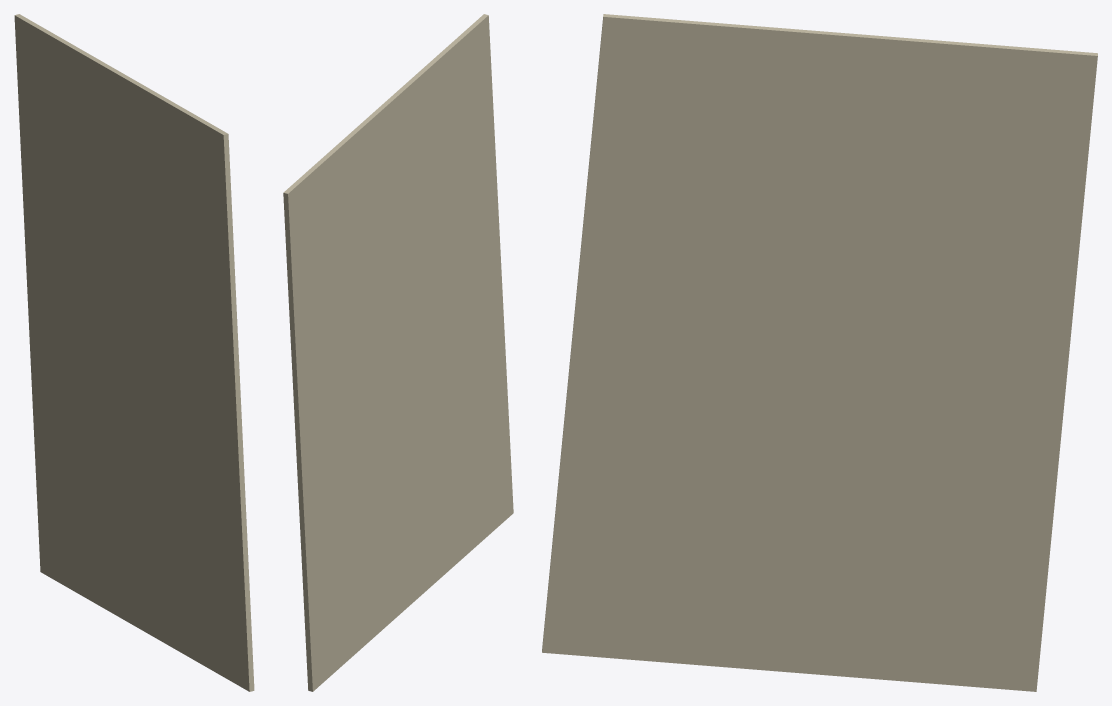
The model's file is shift_note_paper.glb.
3 views of the same model, side by side, from view 1: azimuth 30°, elevation 25°; view 2: azimuth 150°, elevation 25°; view 3: azimuth 270°, elevation 25° (orthographic). The views are drawn at different scales.
Visible parts, largest first — view 1: ShiftNotePaperMesh; view 2: ShiftNotePaperMesh; view 3: ShiftNotePaperMesh.
Boxes of the visible parts, x1,y1,x2,y2 form: ShiftNotePaperMesh: [14, 14, 254, 691]; ShiftNotePaperMesh: [283, 14, 513, 691]; ShiftNotePaperMesh: [542, 14, 1097, 691].
Bounding box in the file's own units: 0.0016 × 0.1777 × 0.1326.
